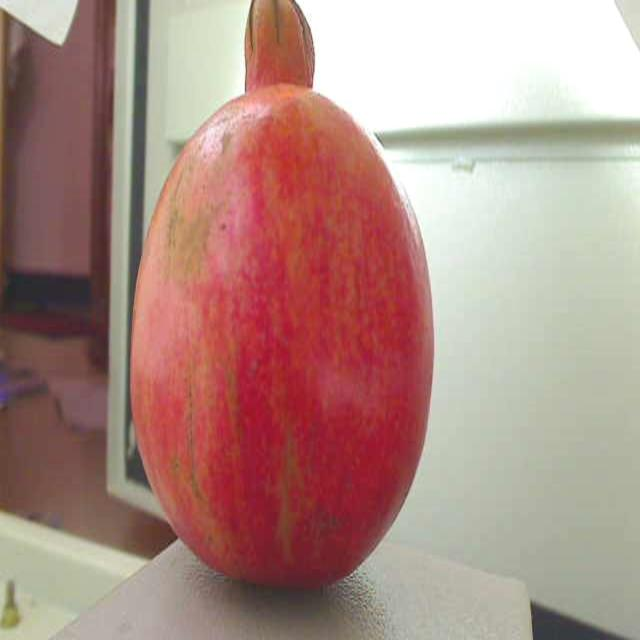pomegranate: (131, 0, 440, 598)
